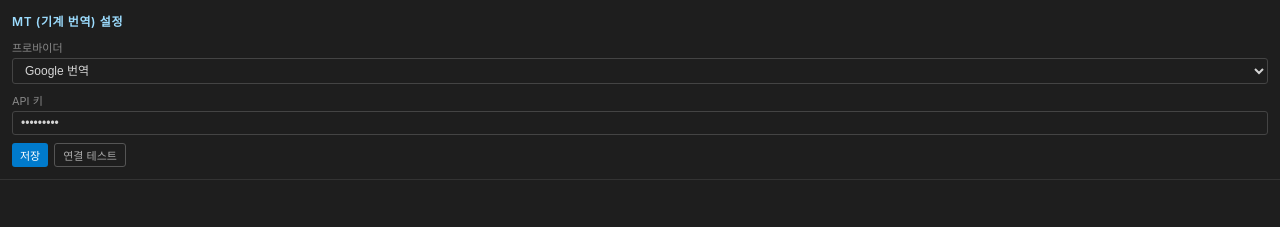
MtSettings › 저장 실패 시 에러 메시지가 표시된다 (에러 상태)
The image size is (1280, 227).
Click the button "저장": (30,155) top-left (12, 143), bottom-right (48, 167)
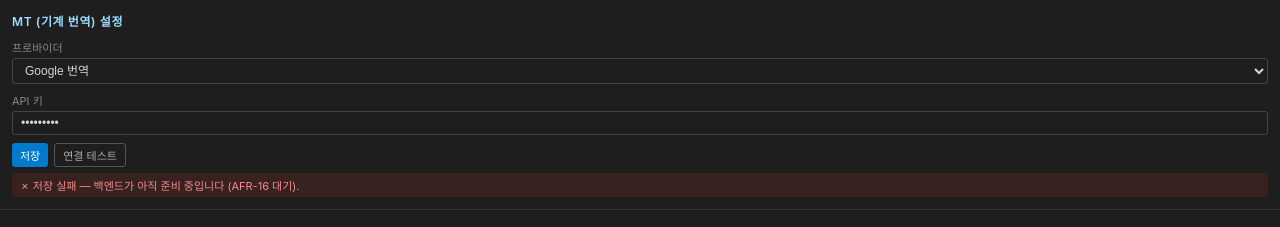
Result: the text "✗ 저장 실패 — 백엔드가 아직 준비 중입니다 (AFR-16 대기)." is shown at top-left (12, 173), bottom-right (1268, 197)
